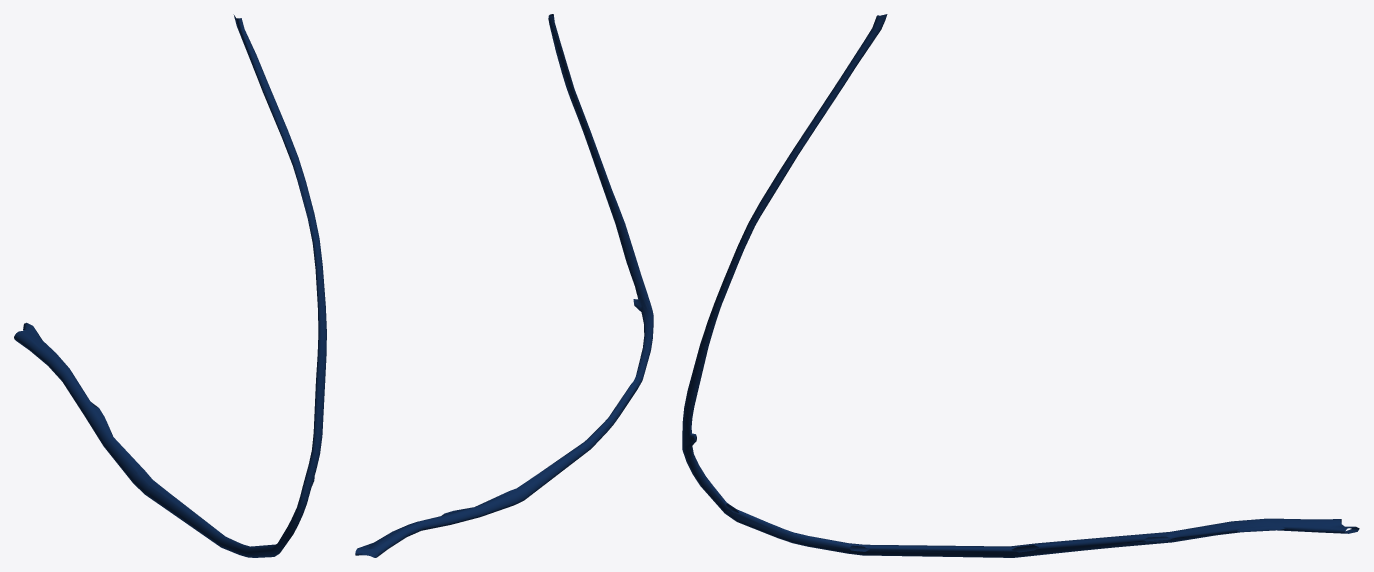
Rendered from L vena thoracica interna.fbx.
3 views of the same model, side by side, from view 1: azimuth 30°, elevation 25°; view 2: azimuth 150°, elevation 25°; view 3: azimuth 270°, elevation 25° (orthographic). The views are drawn at different scales.
Visible parts, largest first — view 1: L vena thoracica interna, L vena thoracica interna low; view 2: L vena thoracica interna, L vena thoracica interna low; view 3: L vena thoracica interna, L vena thoracica interna low.
Boxes of the visible parts, bbox=[...] form: L vena thoracica interna: bbox=[14, 14, 326, 557]; L vena thoracica interna low: bbox=[14, 18, 325, 556]; L vena thoracica interna: bbox=[355, 14, 653, 557]; L vena thoracica interna low: bbox=[359, 14, 653, 557]; L vena thoracica interna: bbox=[682, 14, 1359, 557]; L vena thoracica interna low: bbox=[683, 17, 1357, 557].
Bounding box in the file's own units: 3 × 25.84 × 28.43.
